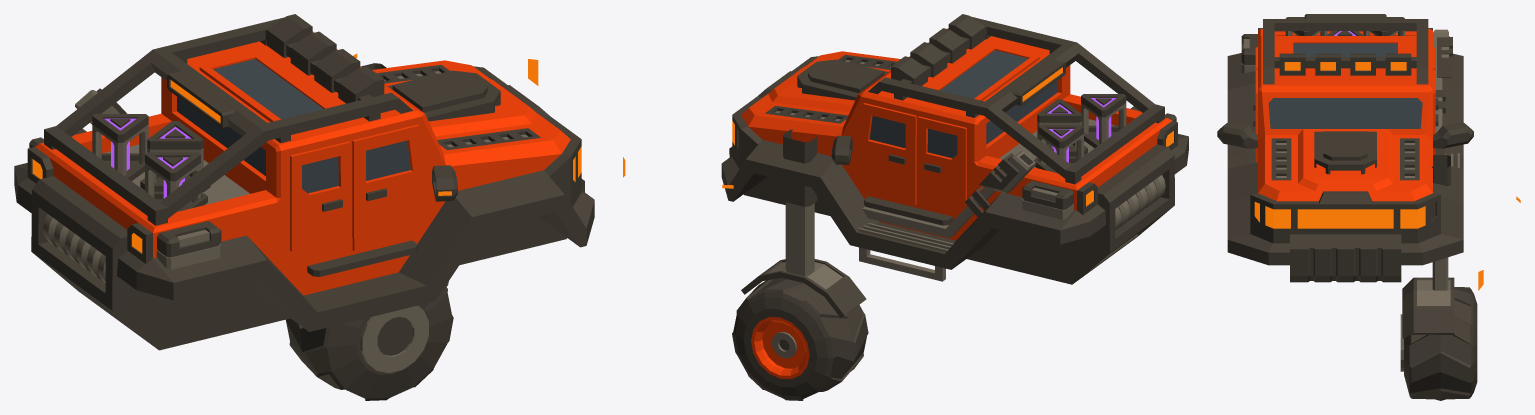
3 renders of one model, left to right at view 1: azimuth 30°, elevation 25°; view 2: azimuth 150°, elevation 25°; view 3: azimuth 270°, elevation 25°, orthographic. The views are drawn at different scales.
Visible parts, largest first — view 1: bodyBlack, bodyRed, wheel.001, glass, wheelGuard.002, energy, bodyMetal, wheelGuard, cellsTop.002, cellsTop.001, cellsTop, cellsCage (+2 smaller); view 2: bodyBlack, bodyRed, wheel.001, bodyMetal, glass, wheel.002, Cylinder.016, wheelGuard, Cylinder.023, energy, cellsTop.001, cellsTop.002 (+3 smaller); view 3: bodyBlack, bodyRed, glass, wheel.001, headlights, wheelGuard, wheelGuard.002, bodyMetal, Cylinder.023, Cylinder.016, energy.
Part boxes in pixels (left/top/right/bottom): bodyBlack: left=14, top=14, right=594, bottom=350; bodyRed: left=35, top=31, right=570, bottom=295; wheel.001: left=286, top=287, right=453, bottom=400; glass: left=177, top=59, right=410, bottom=193; wheelGuard.002: left=360, top=305, right=428, bottom=373; energy: left=43, top=71, right=528, bottom=282; bodyMetal: left=75, top=90, right=249, bottom=269; wheelGuard: left=359, top=281, right=448, bottom=355; cellsTop.002: left=145, top=152, right=200, bottom=181; cellsTop.001: left=147, top=121, right=203, bottom=149; cellsTop: left=92, top=114, right=148, bottom=142; cellsCage: left=92, top=124, right=148, bottom=175; bodyBlack: left=721, top=14, right=1188, bottom=284; bodyRed: left=741, top=28, right=1171, bottom=240; wheel.001: left=732, top=277, right=868, bottom=400; bodyMetal: left=857, top=119, right=1114, bottom=281; glass: left=869, top=50, right=1057, bottom=158; wheel.002: left=751, top=317, right=809, bottom=379; Cylinder.016: left=785, top=202, right=814, bottom=276; wheelGuard: left=741, top=259, right=866, bottom=317; Cylinder.023: left=783, top=129, right=817, bottom=206; energy: left=775, top=60, right=1165, bottom=230; cellsTop.001: left=1037, top=99, right=1082, bottom=122; cellsTop.002: left=1081, top=94, right=1126, bottom=117; bodyBlack: left=1217, top=14, right=1473, bottom=282; bodyRed: left=1255, top=29, right=1435, bottom=201; glass: left=1268, top=43, right=1422, bottom=128; wheel.001: left=1404, top=287, right=1477, bottom=400; headlights: left=1265, top=62, right=1425, bottom=228; wheelGuard: left=1402, top=277, right=1454, bottom=338; wheelGuard.002: left=1400, top=279, right=1450, bottom=371; bodyMetal: left=1241, top=29, right=1459, bottom=167; Cylinder.023: left=1432, top=155, right=1450, bottom=186; Cylinder.016: left=1432, top=257, right=1448, bottom=290; energy: left=1243, top=39, right=1414, bottom=177.
Bounding box in the file's own units: 3.5 × 2.48 × 2.23.
